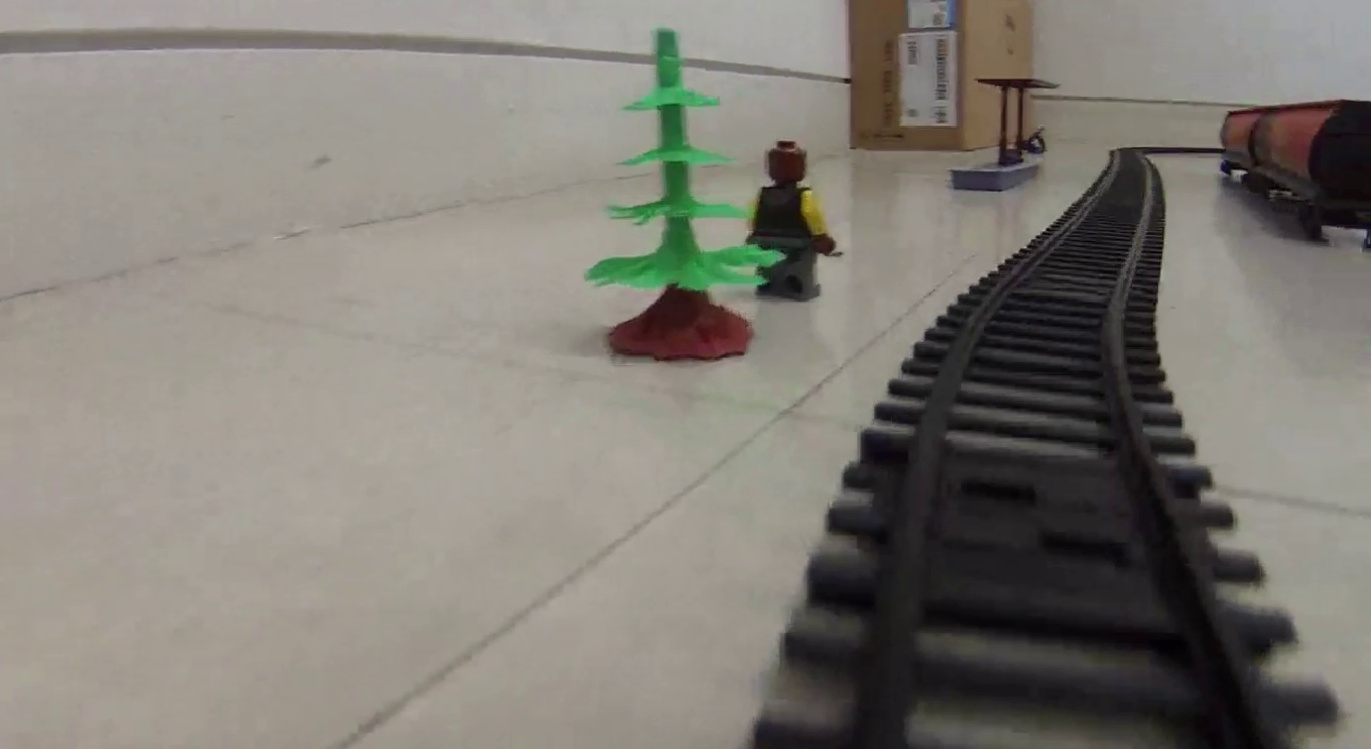people: (746, 141, 836, 304)
tree: (586, 29, 769, 363)
